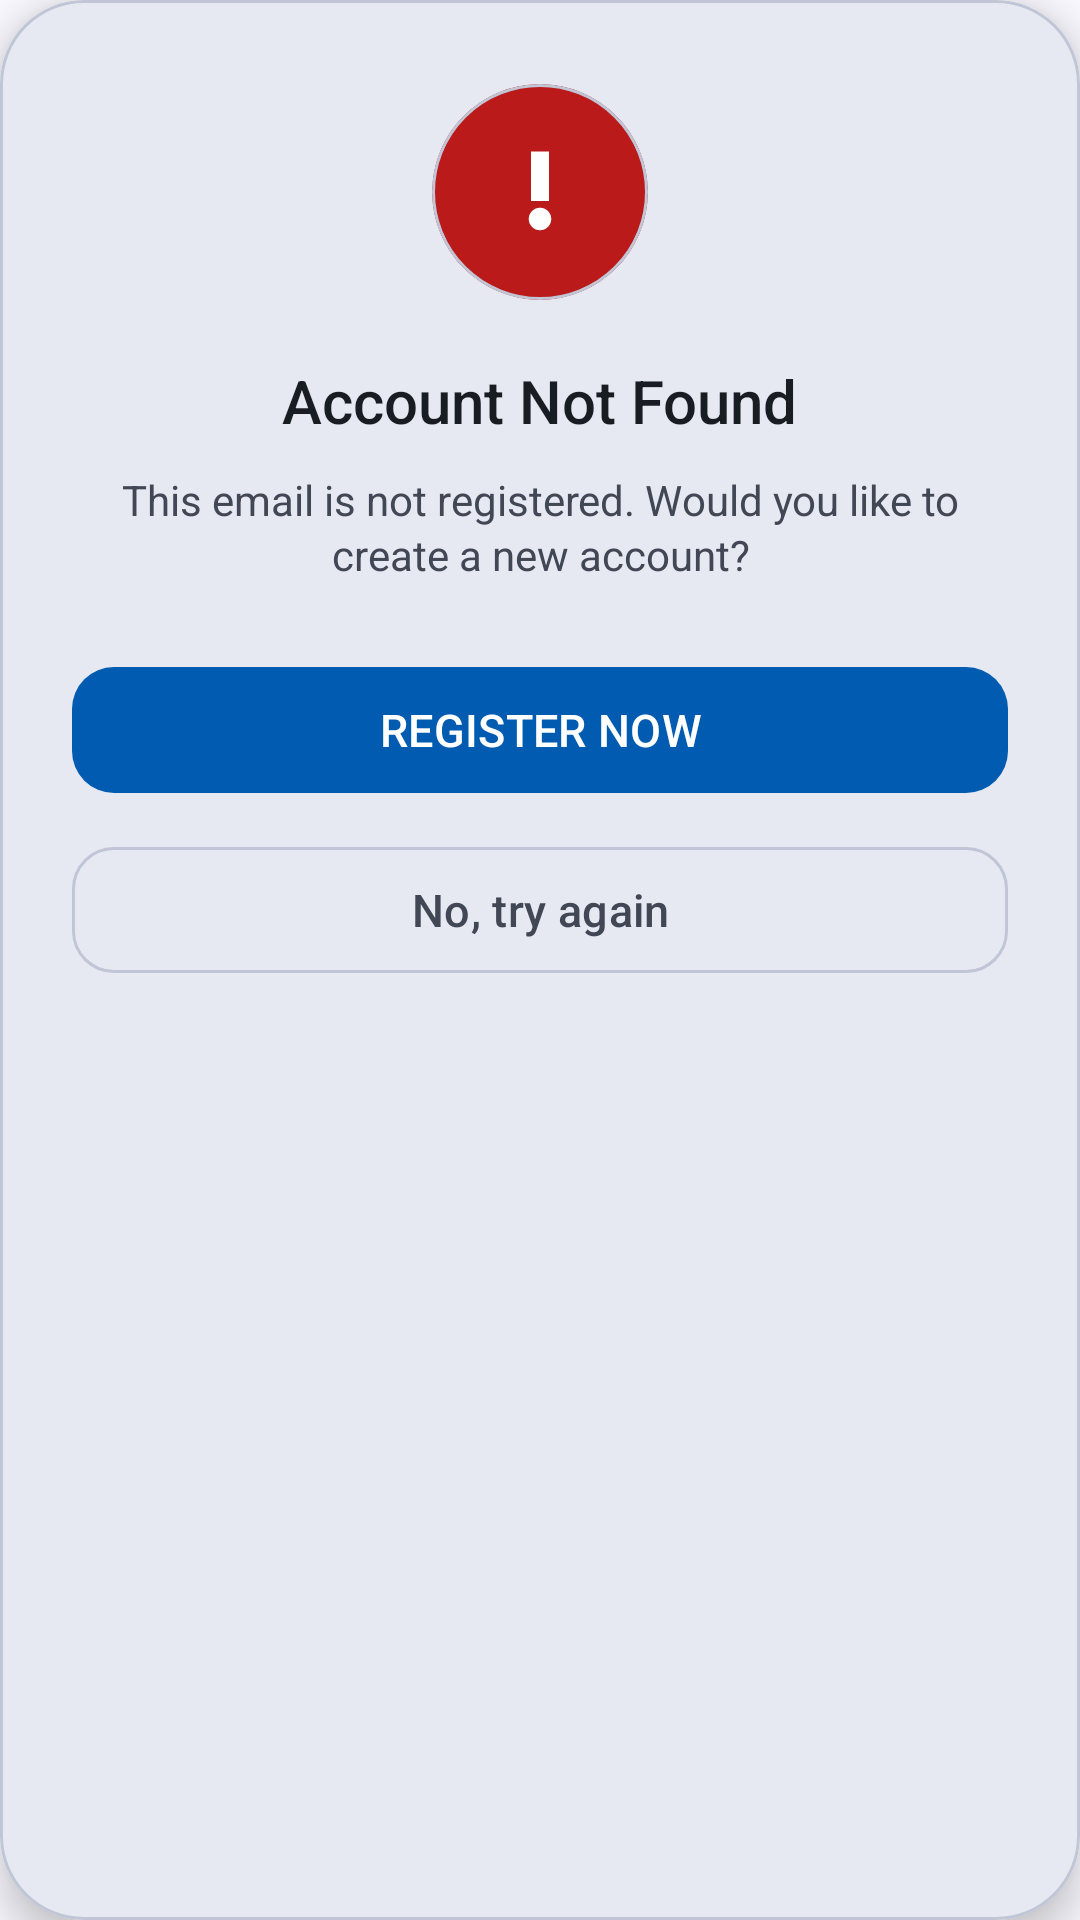

Named icons in this screenshot (1080x1920) and their centers, (x=x, y=y):
Error icon: (x=540, y=191)
